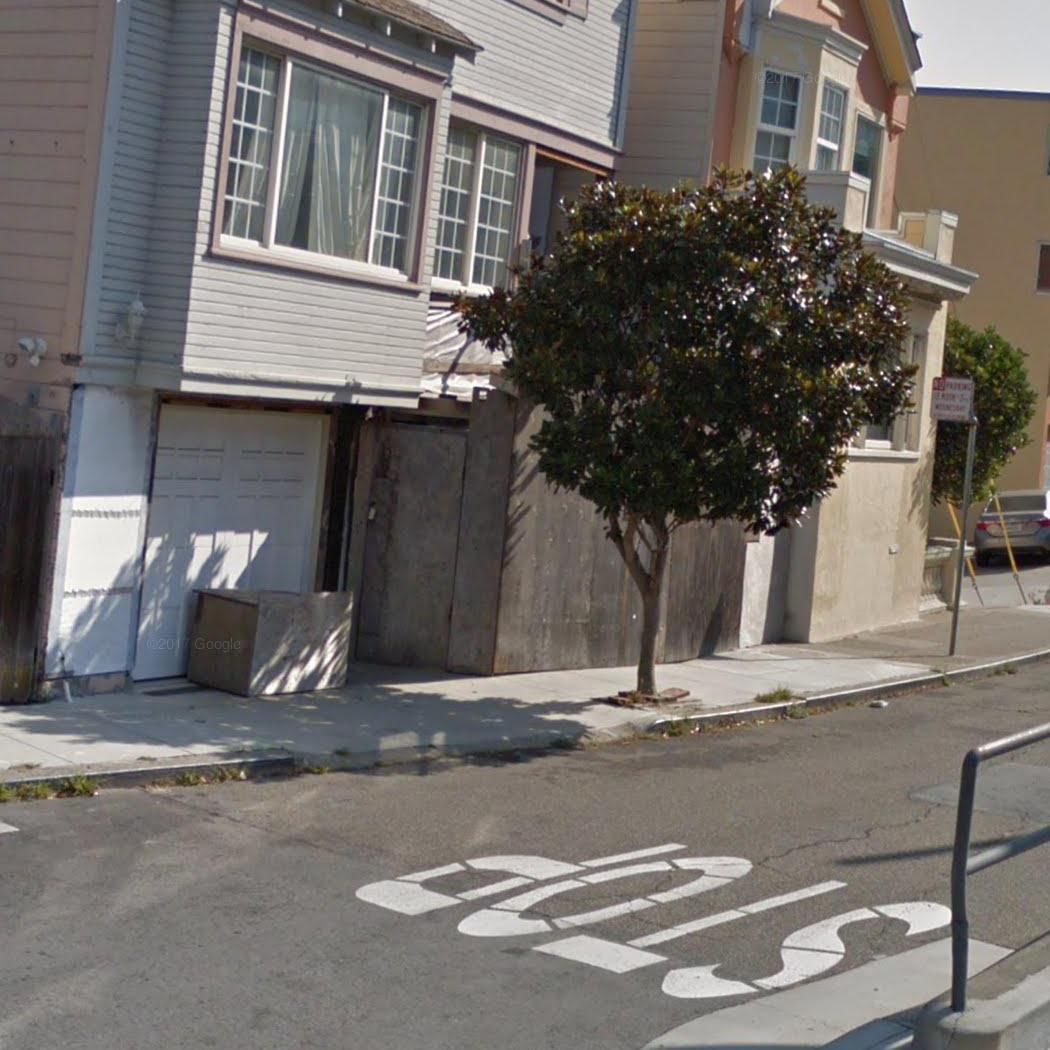No Parking: (929, 374, 977, 427)
